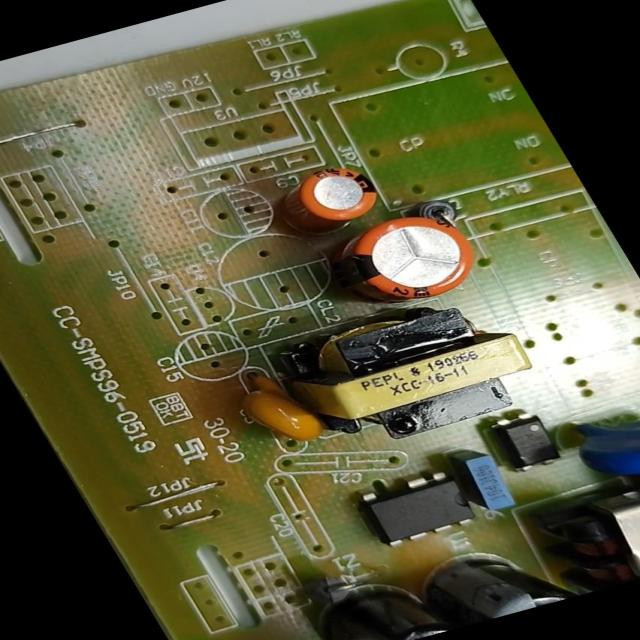Cap1: (308, 191, 522, 320)
Cap2: (237, 145, 396, 243)
Cap3: (394, 532, 595, 635)
Cap4: (289, 544, 491, 639)
MOSFET: (339, 456, 499, 560)
Mov: (554, 383, 640, 502)
Transformer: (229, 279, 571, 468), (508, 465, 639, 599)
